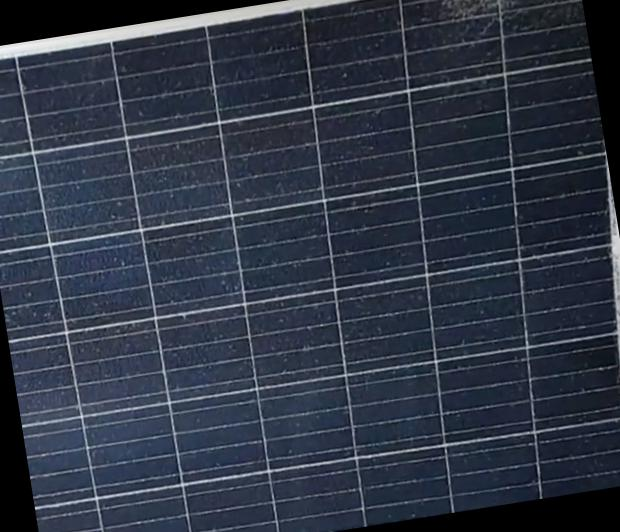Crack: (427, 0, 540, 21)
